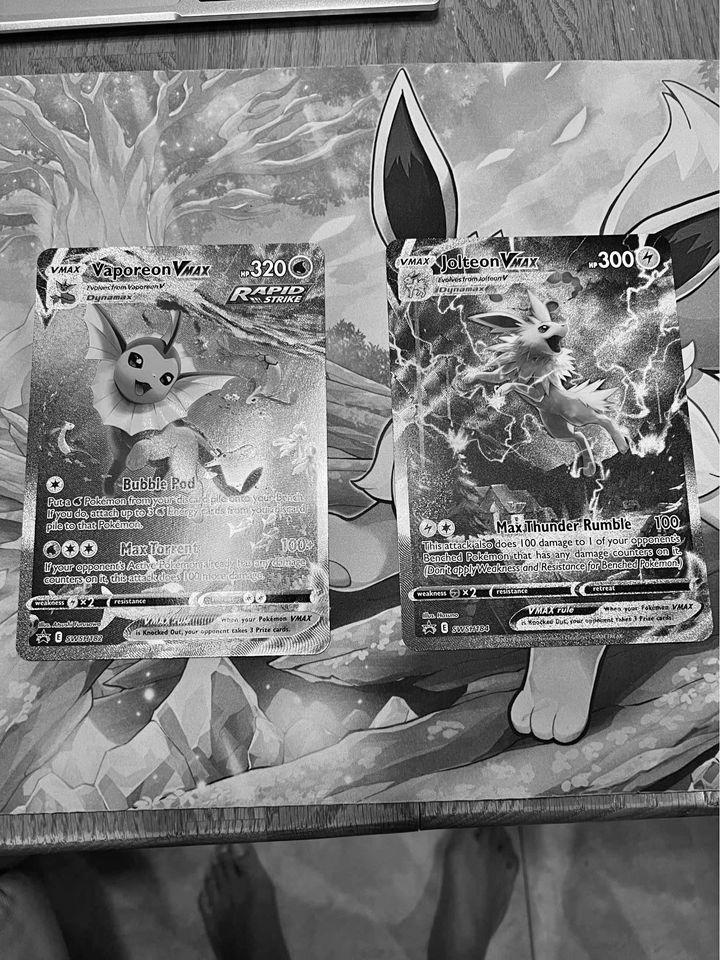card: (384, 231, 715, 652), (14, 240, 331, 663)
